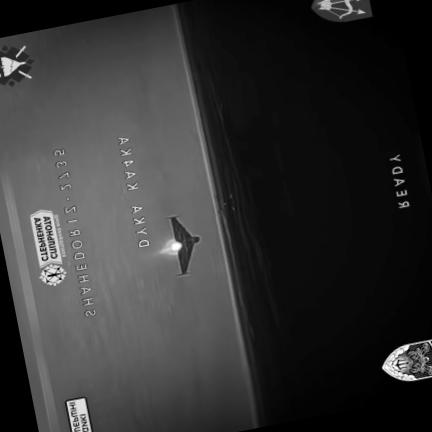Shahed: (166, 215, 199, 275)
